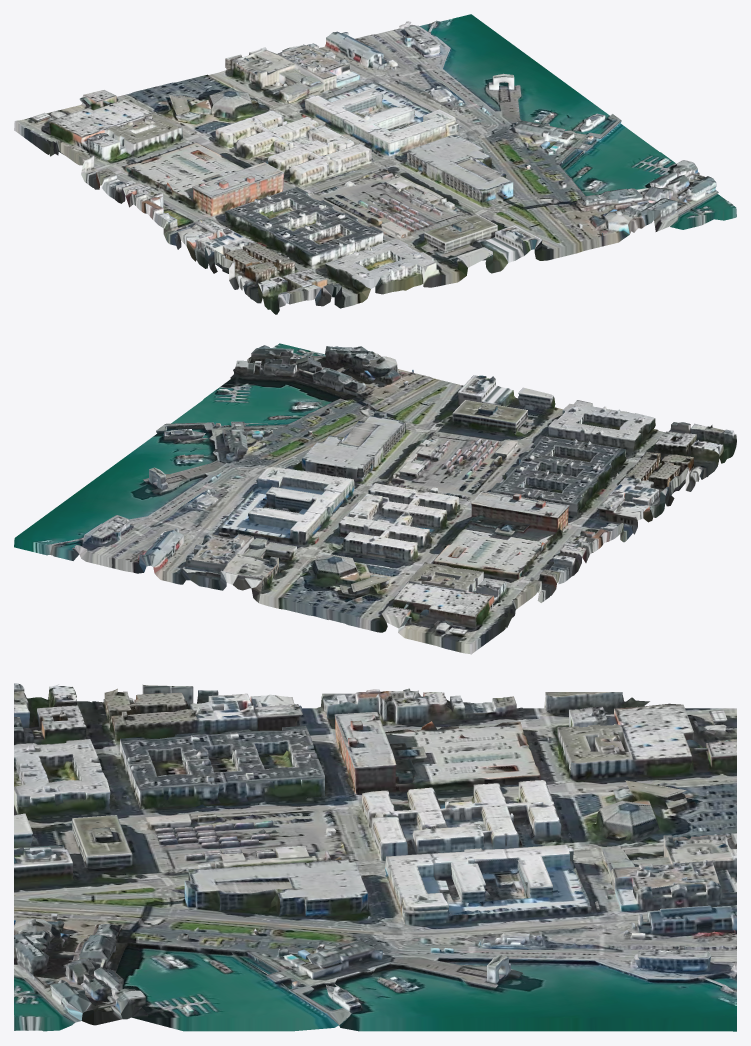
Rendered from z16-10483-25323-h0-yup-uvflip-v3-world.glb.
The picture shows the model from 3 angles, top to bottom: view 1: azimuth 30°, elevation 25°; view 2: azimuth 150°, elevation 25°; view 3: azimuth 270°, elevation 25°; orthographic projection. The views are drawn at different scales.
Bounding box in the file's own units: 484 × 37.76 × 485.
1 material, 1 textured.
